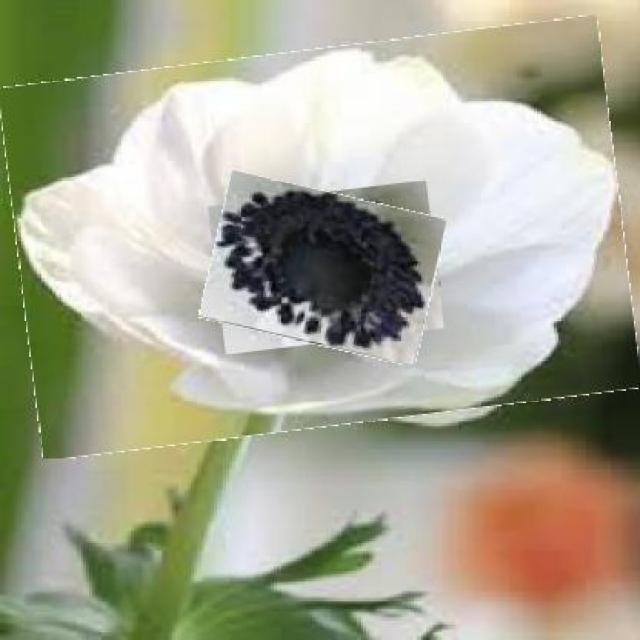Flower: (9, 34, 632, 443), (205, 182, 441, 356)
